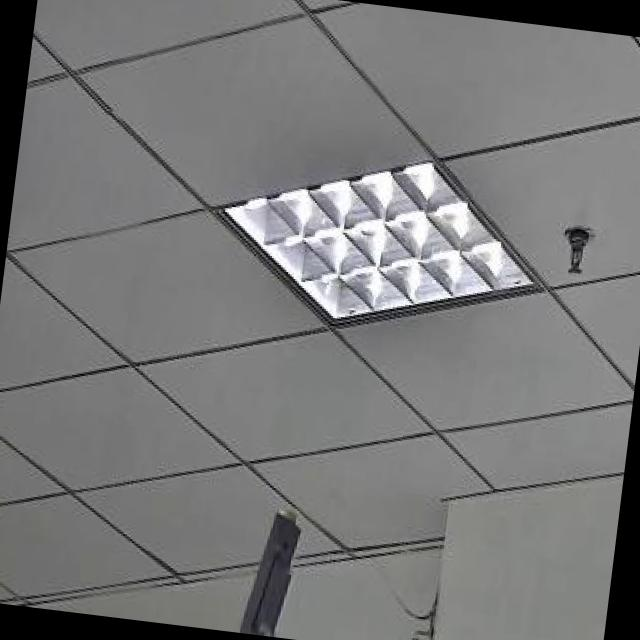Guns: (176, 450, 350, 640)
